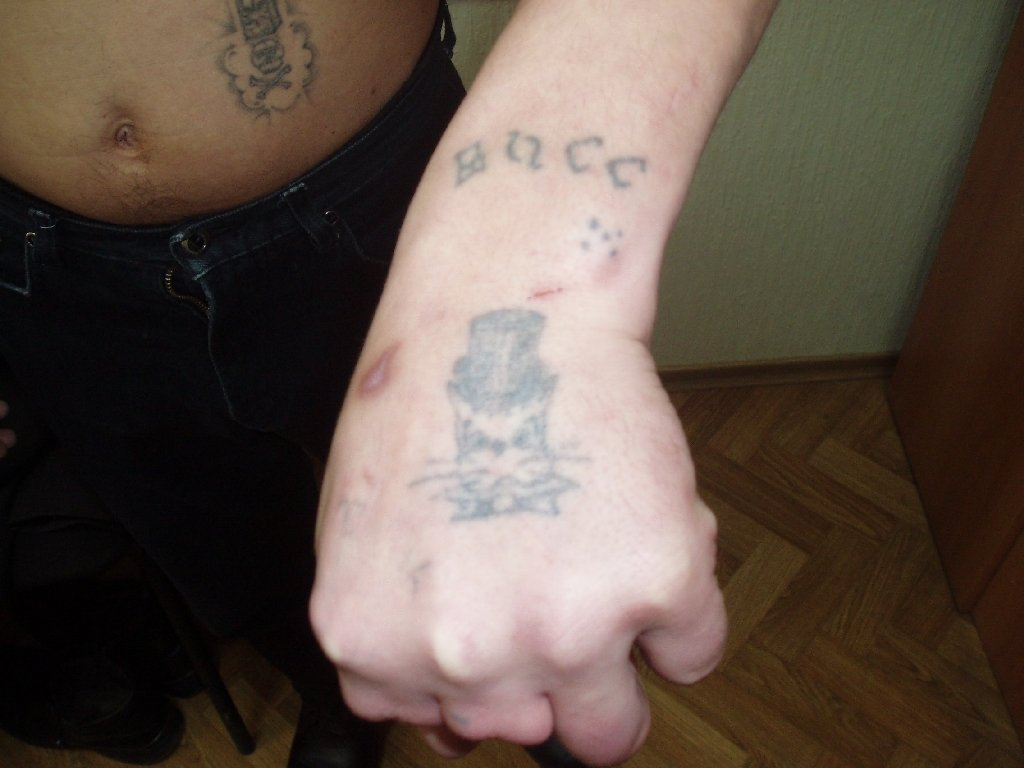tatu8_kot: (435, 306, 591, 511)
